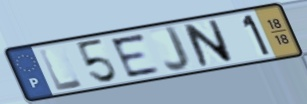1: (241, 13, 273, 57)
5: (73, 36, 121, 84)
E: (107, 31, 163, 80)
J: (163, 25, 194, 74)
L: (36, 46, 87, 93)
N: (181, 18, 236, 69)
